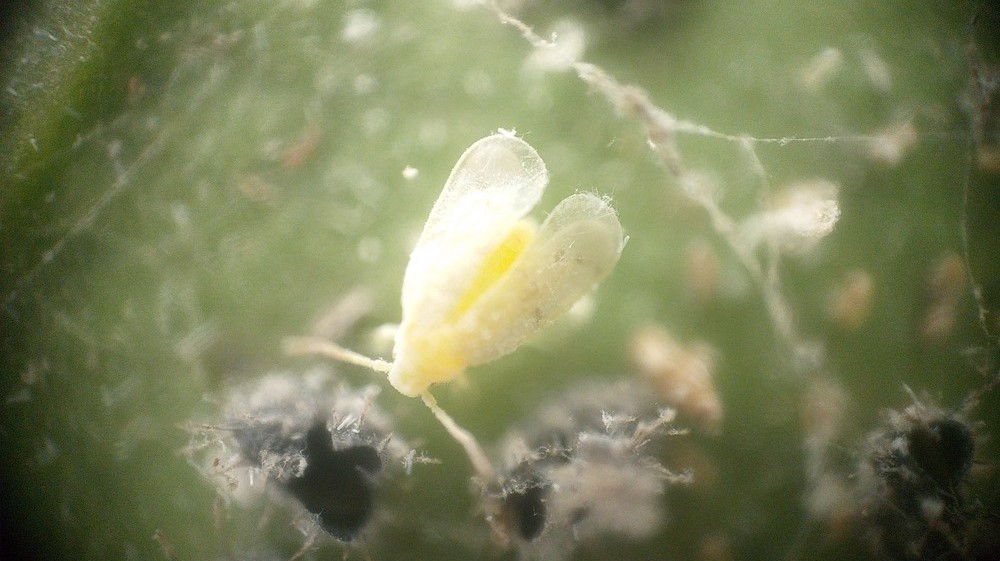Mosca Blanca: (276, 124, 638, 494)
